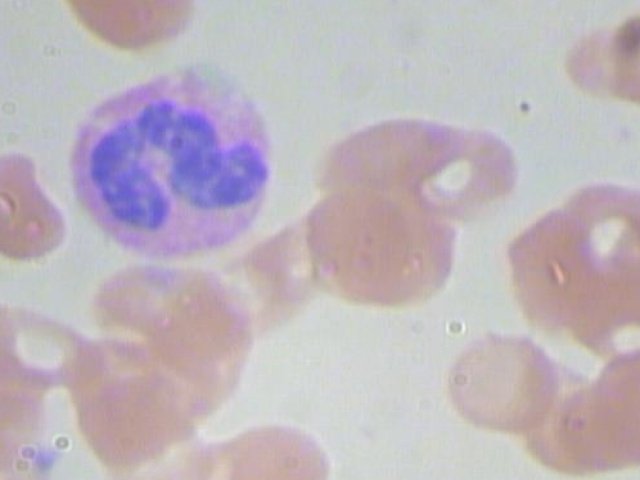RBC: (289, 178, 459, 313), (434, 311, 569, 448), (500, 350, 634, 480), (118, 275, 256, 385), (319, 99, 453, 210), (68, 371, 219, 469), (387, 119, 521, 229), (204, 237, 317, 338), (540, 173, 640, 283), (199, 408, 350, 480), (78, 408, 229, 480), (20, 0, 214, 54), (0, 128, 71, 273), (581, 331, 640, 468), (591, 0, 640, 111)
WBC: (45, 57, 288, 257)
